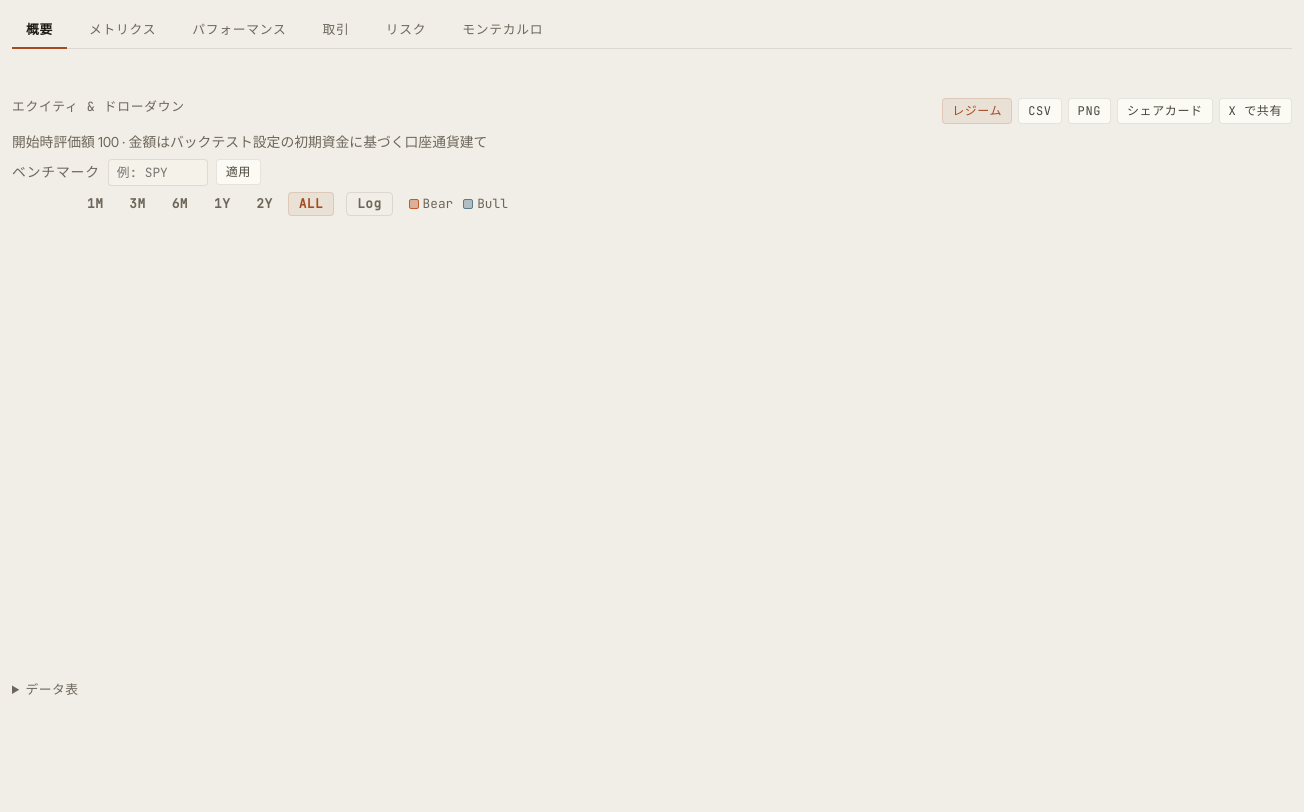
it: BacktestScreen custom benchmark (issue #370) › 価格データが無い銘柄では案内を表示する
The image size is (1304, 812).
In the field named "ベンチマーク銘柄": (158, 172) left=108, top=159, right=208, bottom=186, type "XXX"
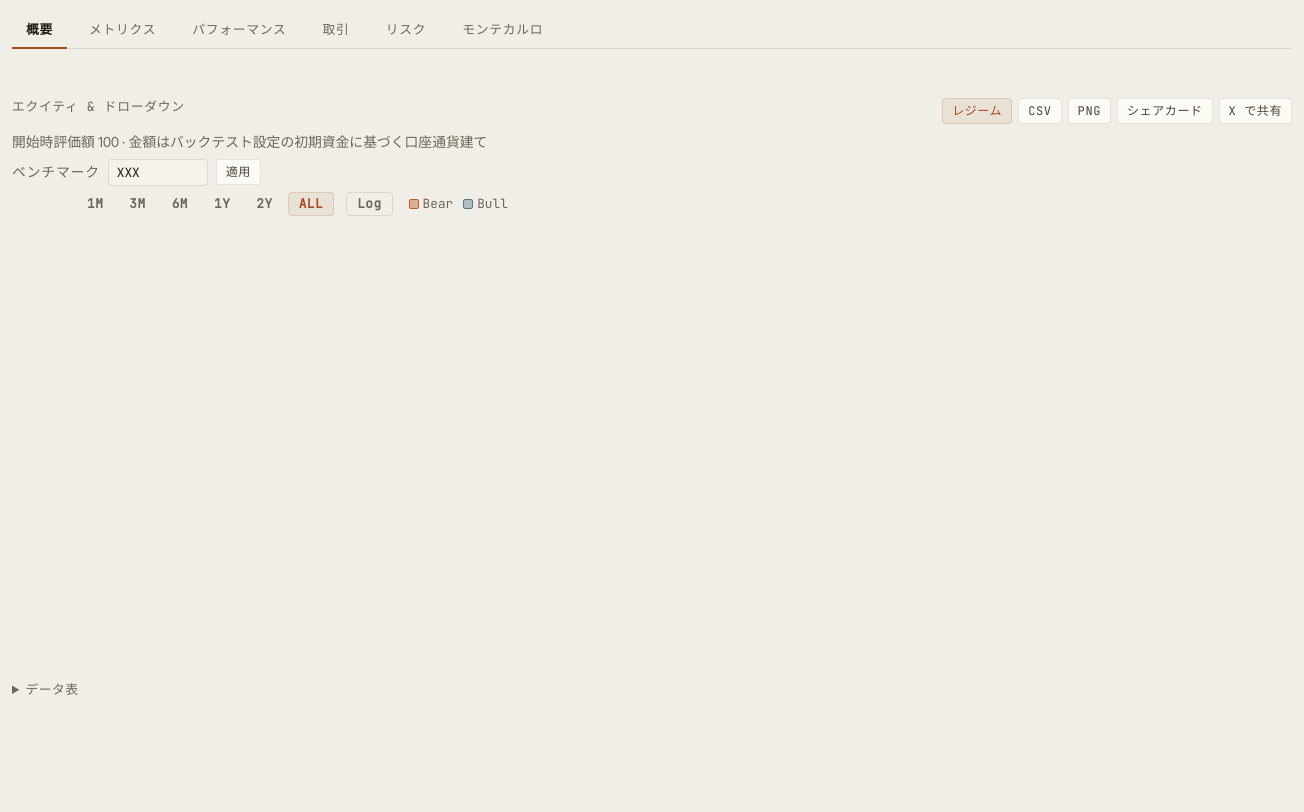
Click the button "適用": click(238, 172) left=216, top=160, right=261, bottom=186
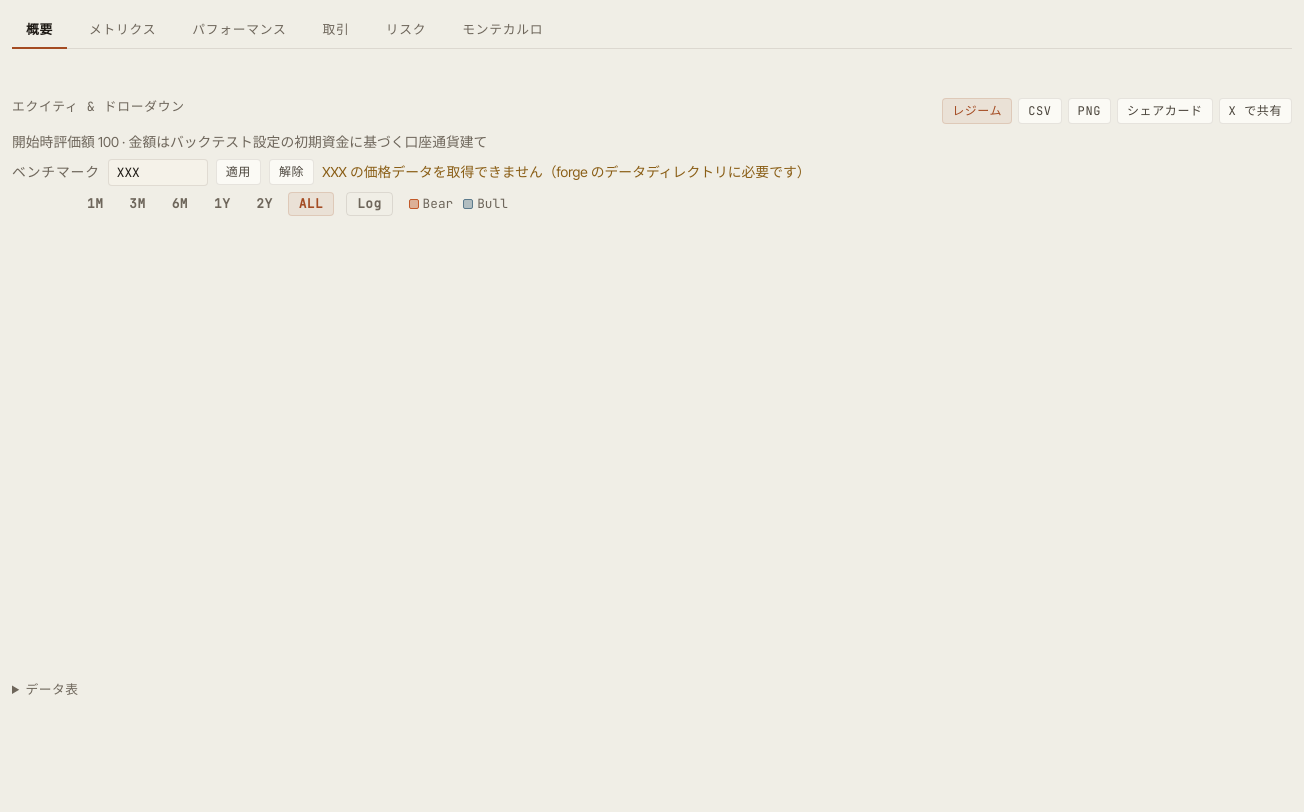
Expected: the text "XXX の価格データを取得できません（forge のデータディレクトリに必要です）" is shown, left=322, top=162, right=811, bottom=183
